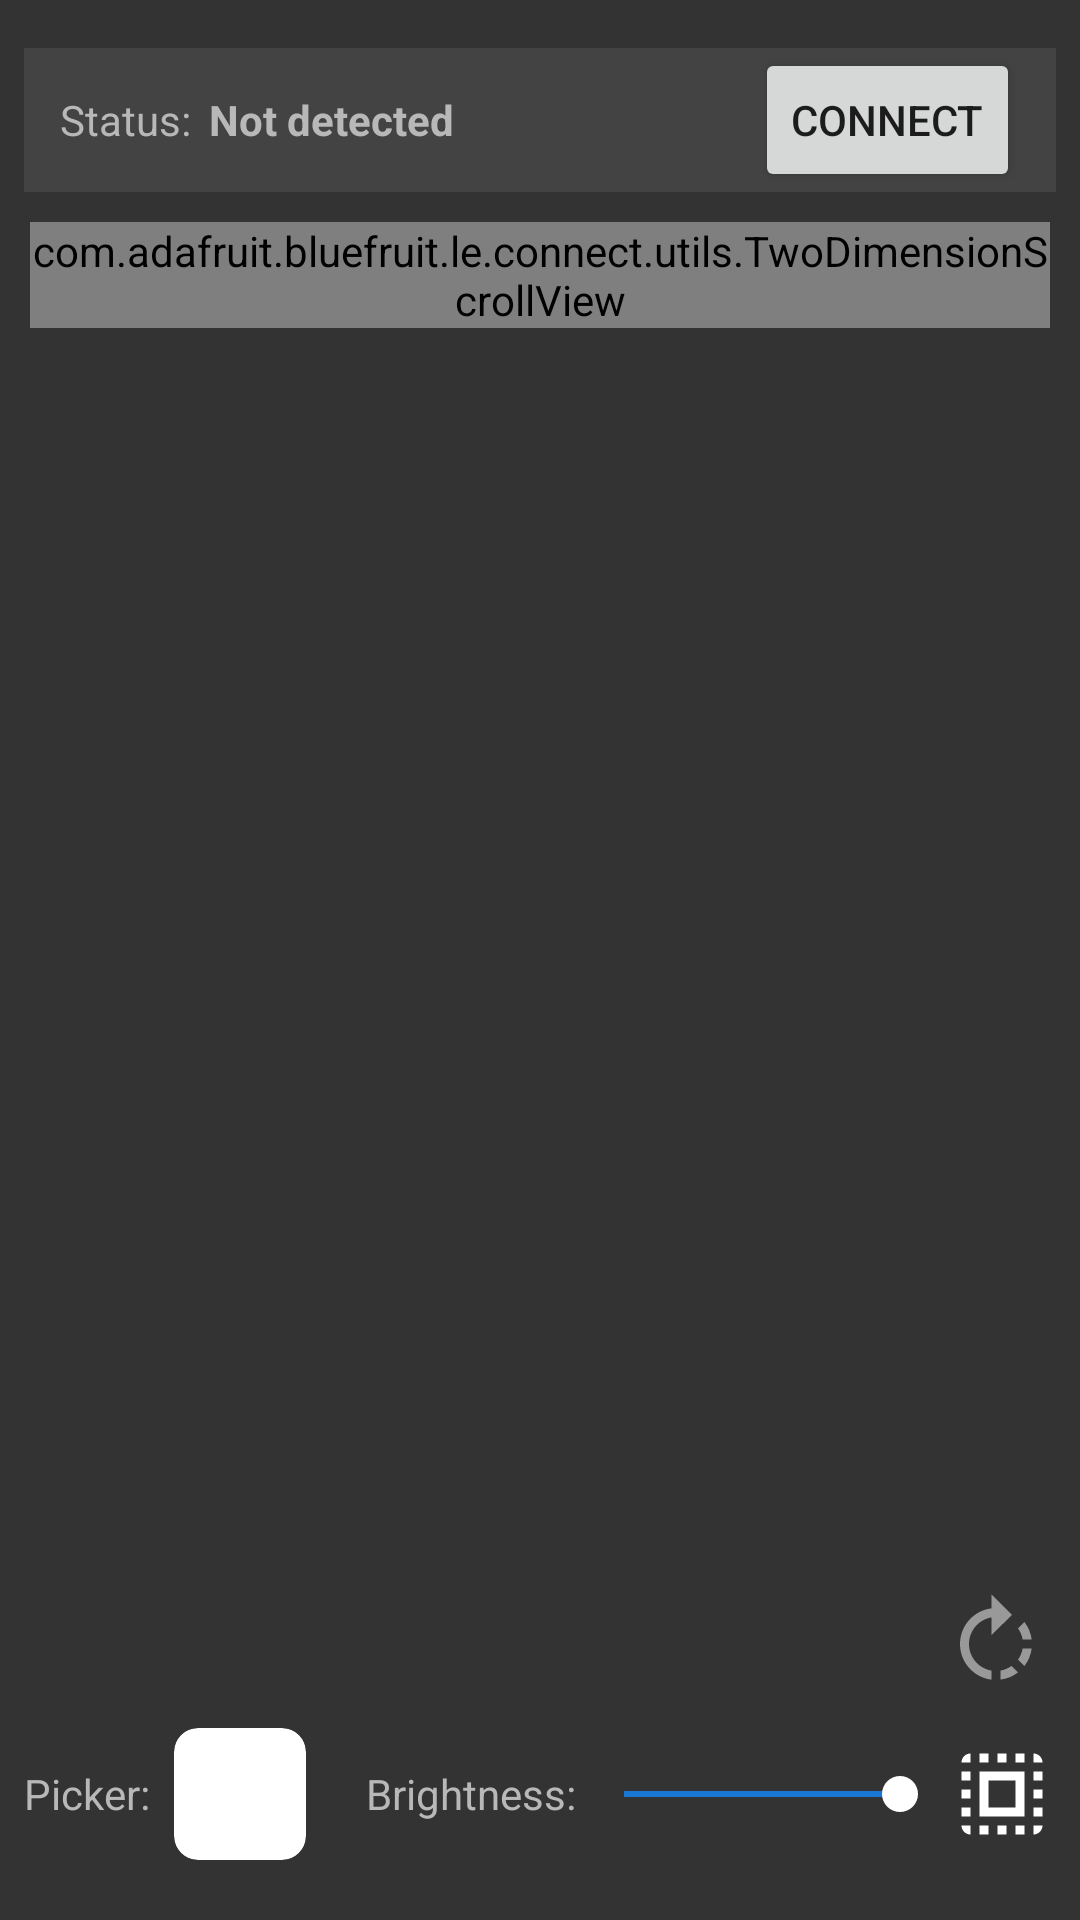

Screen size 1080px x 1920px. Icon name, then its box in pixels as bbox(x1, y1, x2, y2):
rotate right: bbox(960, 1595, 1032, 1680)
select all: bbox(961, 1753, 1043, 1835)
